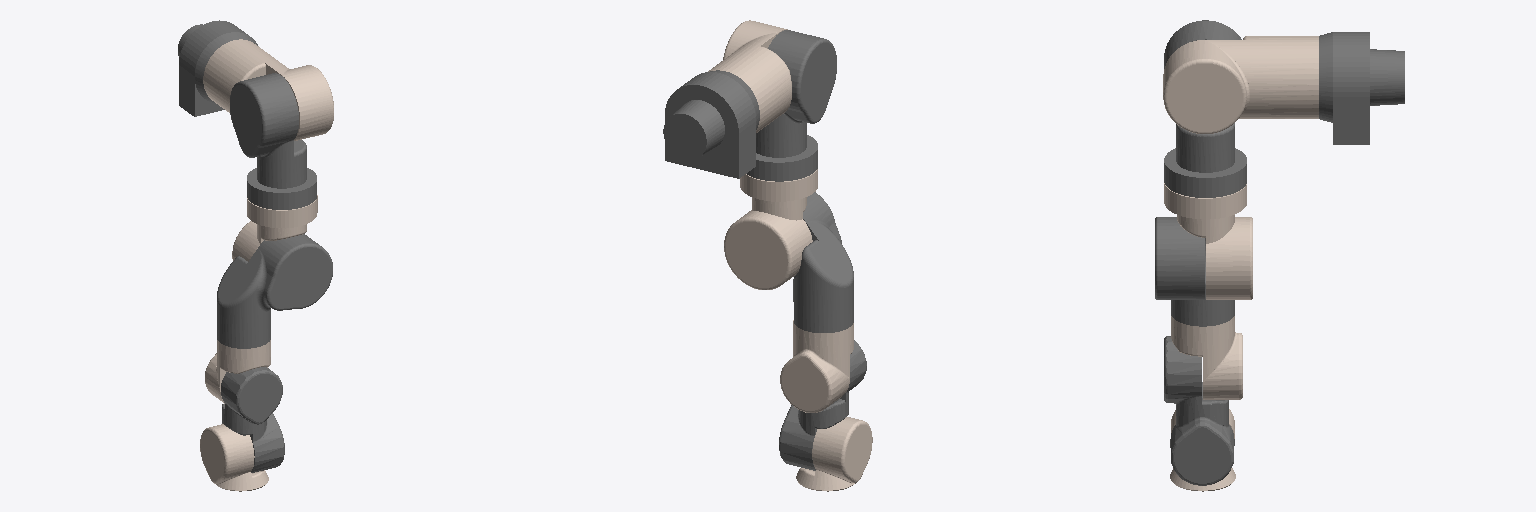
robot.urdf — ballbot:
<?xml version="1.0" ?>
<!-- =================================================================================== -->
<!-- |    This document was autogenerated by xacro from ballbot_right_arm.urdf.xacro   | -->
<!-- |    EDITING THIS FILE BY HAND IS NOT RECOMMENDED                                 | -->
<!-- =================================================================================== -->
<robot name="ballbot" xmlns:xacro="http://ros.org/wiki/xacro">
  <material name="black">
    <color rgba="0.0 0.0 0.0 1.0"/>
  </material>
  <material name="blue">
    <color rgba="0.0 0.0 0.8 1.0"/>
  </material>
  <material name="green">
    <color rgba="0.0 0.8 0.0 1.0"/>
  </material>
  <material name="grey">
    <color rgba="0.5 0.5 0.5 1.0"/>
  </material>
  <material name="orange">
    <color rgba="1.0 0.423529411765 0.0392156862745 1.0"/>
  </material>
  <material name="brown">
    <color rgba="0.870588235294 0.811764705882 0.764705882353 1.0"/>
  </material>
  <material name="white">
    <color rgba="1.0 1.0 1.0 1.0"/>
  </material>
  <material name="yellow">
    <color rgba="0.8 0.68 0 1"/>
  </material>
  <material name="red">
    <color rgba="1.0 0.0 0.0 1"/>
  </material>
  <!-- ros_control plugin -->
  <gazebo>
    <plugin filename="libgazebo_ros_control.so" name="gazebo_ros_control">
      <robotNamespace>/ballbot</robotNamespace>
      <robotSimType>gazebo_ros_control/DefaultRobotHWSim</robotSimType>
      <legacyModeNS>true</legacyModeNS>
    </plugin>
  </gazebo>
  <!-- Right Arm Transmissions -->
  <transmission name="RArmTran1">
    <type>transmission_interface/SimpleTransmission</type>
    <joint name="JRA1">
      <hardwareInterface>hardware_interface/EffortJointInterface</hardwareInterface>
    </joint>
    <actuator name="RArmMotor1">
      <hardwareInterface>hardware_interface/EffortJointInterface</hardwareInterface>
      <mechanicalReduction>1</mechanicalReduction>
    </actuator>
  </transmission>
  <transmission name="RArmTran2">
    <type>transmission_interface/SimpleTransmission</type>
    <joint name="JRA2">
      <hardwareInterface>hardware_interface/EffortJointInterface</hardwareInterface>
    </joint>
    <actuator name="RArmMotor2">
      <hardwareInterface>hardware_interface/EffortJointInterface</hardwareInterface>
      <mechanicalReduction>1</mechanicalReduction>
    </actuator>
  </transmission>
  <transmission name="RArmTran3">
    <type>transmission_interface/SimpleTransmission</type>
    <joint name="JRA3">
      <hardwareInterface>hardware_interface/EffortJointInterface</hardwareInterface>
    </joint>
    <actuator name="RArmMotor3">
      <hardwareInterface>hardware_interface/EffortJointInterface</hardwareInterface>
      <mechanicalReduction>1</mechanicalReduction>
    </actuator>
  </transmission>
  <transmission name="RArmTran4">
    <type>transmission_interface/SimpleTransmission</type>
    <joint name="JRA4">
      <hardwareInterface>hardware_interface/EffortJointInterface</hardwareInterface>
    </joint>
    <actuator name="RArmMotor4">
      <hardwareInterface>hardware_interface/EffortJointInterface</hardwareInterface>
      <mechanicalReduction>1</mechanicalReduction>
    </actuator>
  </transmission>
  <transmission name="RArmTran5">
    <type>transmission_interface/SimpleTransmission</type>
    <joint name="JRA5">
      <hardwareInterface>hardware_interface/EffortJointInterface</hardwareInterface>
    </joint>
    <actuator name="RArmMotor5">
      <hardwareInterface>hardware_interface/EffortJointInterface</hardwareInterface>
      <mechanicalReduction>1</mechanicalReduction>
    </actuator>
  </transmission>
  <transmission name="RArmTran6">
    <type>transmission_interface/SimpleTransmission</type>
    <joint name="JRA6">
      <hardwareInterface>hardware_interface/EffortJointInterface</hardwareInterface>
    </joint>
    <actuator name="RArmMotor6">
      <hardwareInterface>hardware_interface/EffortJointInterface</hardwareInterface>
      <mechanicalReduction>1</mechanicalReduction>
    </actuator>
  </transmission>
  <transmission name="RArmTran7">
    <type>transmission_interface/SimpleTransmission</type>
    <joint name="JRA7">
      <hardwareInterface>hardware_interface/EffortJointInterface</hardwareInterface>
    </joint>
    <actuator name="RArmMotor7">
      <hardwareInterface>hardware_interface/EffortJointInterface</hardwareInterface>
      <mechanicalReduction>1</mechanicalReduction>
    </actuator>
  </transmission>
  <gazebo reference="RArm0">
    <mu1>0.2</mu1>
    <mu2>0.2</mu2>
    <material>Gazebo/Grey</material>
  </gazebo>
  <gazebo reference="RArm1">
    <mu1>0.2</mu1>
    <mu2>0.2</mu2>
    <material>Gazebo/Blue</material>
  </gazebo>
  <gazebo reference="RArm2">
    <mu1>0.2</mu1>
    <mu2>0.2</mu2>
    <material>Gazebo/Grey</material>
  </gazebo>
  <gazebo reference="RArm3">
    <mu1>0.2</mu1>
    <mu2>0.2</mu2>
    <material>Gazebo/Blue</material>
  </gazebo>
  <gazebo reference="RArm4">
    <mu1>0.2</mu1>
    <mu2>0.2</mu2>
    <material>Gazebo/Grey</material>
  </gazebo>
  <gazebo reference="RArm5">
    <mu1>0.2</mu1>
    <mu2>0.2</mu2>
    <material>Gazebo/Blue</material>
  </gazebo>
  <gazebo reference="RArm6">
    <mu1>0.2</mu1>
    <mu2>0.2</mu2>
    <material>Gazebo/Grey</material>
  </gazebo>
  <gazebo reference="RArm7">
    <mu1>0.2</mu1>
    <mu2>0.2</mu2>
    <material>Gazebo/Blue</material>
  </gazebo>
  <!-- Use of macros to assemble the robot -->
  <!-- Used for fixing robot to Gazebo 'base_link' -->
  <link name="base_link"/>
  <!-- ====================================== -->
  <!-- Right Arm -->
  <joint name="JRA0" type="fixed">
    <origin rpy="-1.5707963268 -1.5707963268 3.14159265359" xyz="-0.00635 -0.12314 1.32915"/>
    <parent link="base_link"/>
    <child link="RArm0"/>
    <axis xyz="0 0 1"/>
    <dynamics damping="1.0" friction="1.0"/>
  </joint>
  <link name="RArm0">
    <inertial>
      <origin rpy="0 0 0" xyz="-0.00832 0.0 -0.0418"/>
      <mass value="2.367"/>
      <inertia ixx="0.00366" ixy="0.0" ixz="-0.0000208" iyy="0.00398" iyz="0.0" izz="0.00461"/>
    </inertial>
    <visual>
      <origin rpy="0 0 0" xyz="0 0 0"/>
      <geometry>
        <mesh filename="package://ballbot_arm_description/meshes/link_base.stl"/>
      </geometry>
      <material name="grey"/>
    </visual>
    <collision>
      <origin rpy="0 0 0" xyz="0 0 0"/>
      <geometry>
        <mesh filename="package://ballbot_arm_description/meshes/link_base.stl"/>
      </geometry>
    </collision>
  </link>
  <link name="RArm1">
    <inertial>
      <origin xyz="0.0 0.00329 0.0865"/>
      <mass value="4.181"/>
      <inertia ixx="0.0172" ixy="0.0000173" ixz="0.0" iyy="0.0170" iyz="-0.000935" izz="0.00602"/>
    </inertial>
    <visual>
      <origin rpy="0 0 3.14159265359" xyz="0.0 0.0 0.0"/>
      <geometry>
        <mesh filename="package://ballbot_arm_description/meshes/v2020/link_shoulder_2_base.stl"/>
      </geometry>
      <material name="brown"/>
    </visual>
    <collision>
      <origin rpy="0 0 0" xyz="0.0 0.0 -0.05525"/>
      <geometry>
        <cylinder length="0.1105" radius="0.05"/>
      </geometry>
    </collision>
  </link>
  <link name="RArm2">
    <inertial>
      <origin xyz="-0.123 0.000 -0.0507"/>
      <mass value="1.832"/>
      <inertia ixx="0.00241" ixy="0.0" ixz="-0.000742" iyy="0.00559" iyz="0.0" izz="0.00563"/>
    </inertial>
    <visual>
      <origin rpy="0 0 0" xyz="0.0 0.0 0.0"/>
      <geometry>
        <mesh filename="package://ballbot_arm_description/meshes/v2020/link_shoulder_2_uparm.stl"/>
      </geometry>
      <material name="grey"/>
    </visual>
    <collision>
      <origin rpy="0 0 0" xyz="0.0 0.0 -0.05525"/>
      <geometry>
        <cylinder length="0.1105" radius="0.05"/>
      </geometry>
    </collision>
  </link>
  <link name="RArm3">
    <inertial>
      <origin xyz="0.0 -0.00963 0.0773"/>
      <mass value="1.821"/>
      <inertia ixx="0.00375" ixy="0.0" ixz="0.0" iyy="0.00338" iyz="0.000169" izz="0.00278"/>
    </inertial>
    <visual>
      <origin rpy="0 0 0" xyz="0.0 0.0 -0.02718"/>
      <geometry>
        <mesh filename="package://ballbot_arm_description/meshes/v2020/link_upperarm.stl"/>
      </geometry>
      <material name="brown"/>
    </visual>
    <collision>
      <origin rpy="0 0 0" xyz="0.0 0.0 -0.05525"/>
      <geometry>
        <cylinder length="0.1105" radius="0.05"/>
      </geometry>
    </collision>
  </link>
  <link name="RArm4">
    <inertial>
      <origin xyz="-0.0758 0.0594 -0.0448"/>
      <mass value="1.105"/>
      <inertia ixx="0.00186" ixy="0.000915" ixz="-0.000456" iyy="0.00276" iyz="0.000276" izz="0.00356"/>
    </inertial>
    <visual>
      <origin rpy="0 0 0" xyz="0.0 0.0 0.0"/>
      <geometry>
        <mesh filename="package://ballbot_arm_description/meshes/v2020/link_forearm_r.stl"/>
      </geometry>
      <material name="grey"/>
    </visual>
    <collision>
      <origin rpy="0 0 0" xyz="0.0 0.0 -0.05525"/>
      <geometry>
        <cylinder length="0.1105" radius="0.05"/>
      </geometry>
    </collision>
  </link>
  <link name="RArm5">
    <inertial>
      <origin xyz="-0.00147 0.0 -0.0537"/>
      <mass value="0.973"/>
      <inertia ixx="0.00106" ixy="0.0" ixz="-0.0000188" iyy="0.00123" iyz="0.0" izz="0.00101"/>
    </inertial>
    <visual>
      <origin rpy="0 0 0" xyz="0.0 0.0 0.0"/>
      <geometry>
        <mesh filename="package://ballbot_arm_description/meshes/v2020/link_forearm_2_wrist.stl"/>
      </geometry>
      <material name="brown"/>
    </visual>
    <collision>
      <origin rpy="0 0 0" xyz="0.0 0.0 0.0495"/>
      <geometry>
        <cylinder length="0.099" radius="0.0375"/>
      </geometry>
    </collision>
  </link>
  <link name="RArm6">
    <inertial>
      <origin xyz="0.0947 0.00543 0.0386"/>
      <mass value="1.013"/>
      <inertia ixx="0.00106" ixy="-0.0000831" ixz="-0.000236" iyy="0.00193" iyz="-0.0000139" izz="0.00215"/>
    </inertial>
    <visual>
      <origin rpy="0 0 0" xyz="0.0 0.0 0.0"/>
      <geometry>
        <mesh filename="package://ballbot_arm_description/meshes/v2020/link_wrist_mid.stl"/>
      </geometry>
      <material name="grey"/>
    </visual>
    <collision>
      <origin rpy="0 0 0" xyz="0.0 0.0 0.0495"/>
      <geometry>
        <cylinder length="0.099" radius="0.0375"/>
      </geometry>
    </collision>
  </link>
  <link name="RArm7">
    <inertial>
      <origin xyz="0.0235 -0.000000178 0.0295"/>
      <mass value="0.195"/>
      <inertia ixx="0.000257" ixy="0.0" ixz="-0.0000691" iyy="0.000325" iyz="0.0" izz="0.000362"/>
    </inertial>
    <visual>
      <origin rpy="0 0 0" xyz="0.0 0.0 0.0"/>
      <geometry>
        <mesh filename="package://ballbot_arm_description/meshes/v2020/link_wrist_2_hand.stl"/>
      </geometry>
      <material name="brown"/>
    </visual>
    <collision>
      <origin rpy="0 0 0" xyz="0.0 0.0 0.0495"/>
      <geometry>
        <cylinder length="0.099" radius="0.0375"/>
      </geometry>
    </collision>
  </link>
  <joint name="JRA1" type="revolute">
    <origin rpy="0.0 0.0 0.0" xyz="0.0 0.0 0.0"/>
    <parent link="RArm0"/>
    <child link="RArm1"/>
    <limit effort="30" lower="-1.5707963268" upper="1.5707963268" velocity="1.0"/>
    <axis xyz="0 0 1"/>
    <dynamics damping="0.7" friction="0.5"/>
  </joint>
  <joint name="JRA2" type="revolute">
    <origin rpy="-1.5707963705062866 0.0 -0.0" xyz="0.00000 0.05436 0.14900"/>
    <parent link="RArm1"/>
    <child link="RArm2"/>
    <limit effort="30" lower="0.0" upper="1.5707963268" velocity="1.0"/>
    <axis xyz="0 0 1"/>
    <dynamics damping="0.7" friction="0.5"/>
  </joint>
  <joint name="JRA3" type="revolute">
    <origin rpy="3.141592653589793 -1.570796282091413 3.141592653589793" xyz="-0.17786 0.00000 -0.05436"/>
    <parent link="RArm2"/>
    <child link="RArm3"/>
    <limit effort="30" lower="-1.5707963268" upper="1.5707963268" velocity="1.0"/>
    <axis xyz="0 0 1"/>
    <dynamics damping="0.7" friction="0.5"/>
  </joint>
  <joint name="JRA4" type="revolute">
    <origin rpy="-2.3561944901923457 1.5707962635746238 2.3561944901923457" xyz="0.00000 -0.05436 0.08522"/>
    <parent link="RArm3"/>
    <child link="RArm4"/>
    <limit effort="30" lower="0.0" upper="2.26892802759" velocity="1.0"/>
    <axis xyz="0 0 1"/>
    <dynamics damping="0.7" friction="0.5"/>
  </joint>
  <joint name="JRA5" type="revolute">
    <origin rpy="0 1.5707963268 0" xyz="-0.13200 0.07000 -0.05073"/>
    <parent link="RArm4"/>
    <child link="RArm5"/>
    <limit effort="30" lower="-1.5707963268" upper="1.5707963268" velocity="1.0"/>
    <axis xyz="0 0 1"/>
    <dynamics damping="0.7" friction="0.5"/>
  </joint>
  <joint name="JRA6" type="revolute">
    <origin rpy="0 1.5707963268 0" xyz="-0.04115 0.0 -0.06"/>
    <parent link="RArm5"/>
    <child link="RArm6"/>
    <limit effort="30" lower="-1.5707963268" upper="1.5707963268" velocity="1.0"/>
    <axis xyz="0 0 1"/>
    <dynamics damping="0.7" friction="0.5"/>
  </joint>
  <joint name="JRA7" type="revolute">
    <origin rpy="1.5707963268 0.0 0.0" xyz="0.10750 0.04650 0.041150"/>
    <parent link="RArm6"/>
    <child link="RArm7"/>
    <limit effort="30" lower="-1.5707963268" upper="1.5707963268" velocity="1.0"/>
    <axis xyz="0 0 1"/>
    <dynamics damping="0.7" friction="0.5"/>
  </joint>
  <link name="toolR">
    <inertial>
      <origin xyz="0.0 0.0 0.0"/>
      <mass value="0.00001"/>
      <inertia ixx="0.00001" ixy="0.0" ixz="0.0" iyy="0.00001" iyz="0.0" izz="0.00001"/>
    </inertial>
  </link>
  <joint name="RArm7-toolR" type="fixed">
    <origin rpy="0 1.5707963268 0" xyz="0.055 0 0.04065"/>
    <axis xyz="0 0 1"/>
    <parent link="RArm7"/>
    <child link="toolR"/>
  </joint>
</robot>

--- Render facts (derived) ---
3 views of the same robot in one strip: view 1: azimuth 30°, elevation 25°; view 2: azimuth 150°, elevation 25°; view 3: azimuth 270°, elevation 25° (orthographic).
Robot: ballbot — 10 links, 9 joints (7 revolute, 2 fixed); root link base_link; default pose: every joint at zero.
Visible links, largest first — view 1: RArm4, RArm2, RArm1, RArm6, RArm0, RArm7, RArm3, RArm5; view 2: RArm0, RArm2, RArm3, RArm4, RArm5, RArm1, RArm7, RArm6; view 3: RArm1, RArm0, RArm6, RArm3, RArm2, RArm4, RArm5, RArm7.
Boxes of the visible links, x1=… form: RArm4: x1=217, y1=234, x2=332, y2=348; RArm2: x1=230, y1=73, x2=316, y2=209; RArm1: x1=203, y1=39, x2=333, y2=140; RArm6: x1=221, y1=367, x2=284, y2=472; RArm0: x1=178, y1=20, x2=257, y2=116; RArm7: x1=200, y1=424, x2=268, y2=491; RArm3: x1=232, y1=195, x2=317, y2=261; RArm5: x1=205, y1=340, x2=270, y2=403; RArm0: x1=663, y1=70, x2=759, y2=178; RArm2: x1=747, y1=30, x2=836, y2=181; RArm3: x1=724, y1=169, x2=817, y2=289; RArm4: x1=793, y1=192, x2=853, y2=332; RArm5: x1=780, y1=320, x2=853, y2=412; RArm1: x1=708, y1=20, x2=791, y2=132; RArm7: x1=796, y1=417, x2=872, y2=491; RArm6: x1=779, y1=340, x2=866, y2=470; RArm1: x1=1163, y1=36, x2=1318, y2=133; RArm0: x1=1319, y1=32, x2=1404, y2=144; RArm6: x1=1164, y1=336, x2=1234, y2=485; RArm3: x1=1164, y1=183, x2=1252, y2=299; RArm2: x1=1164, y1=20, x2=1246, y2=197; RArm4: x1=1155, y1=217, x2=1234, y2=326; RArm5: x1=1171, y1=316, x2=1242, y2=399; RArm7: x1=1170, y1=409, x2=1235, y2=491.
Bounding box of the posed robot: 0.19 × 0.3305 × 0.6776 m (x, y, z).
8 mesh visuals loaded from 8 distinct referenced files (8 binary STL).